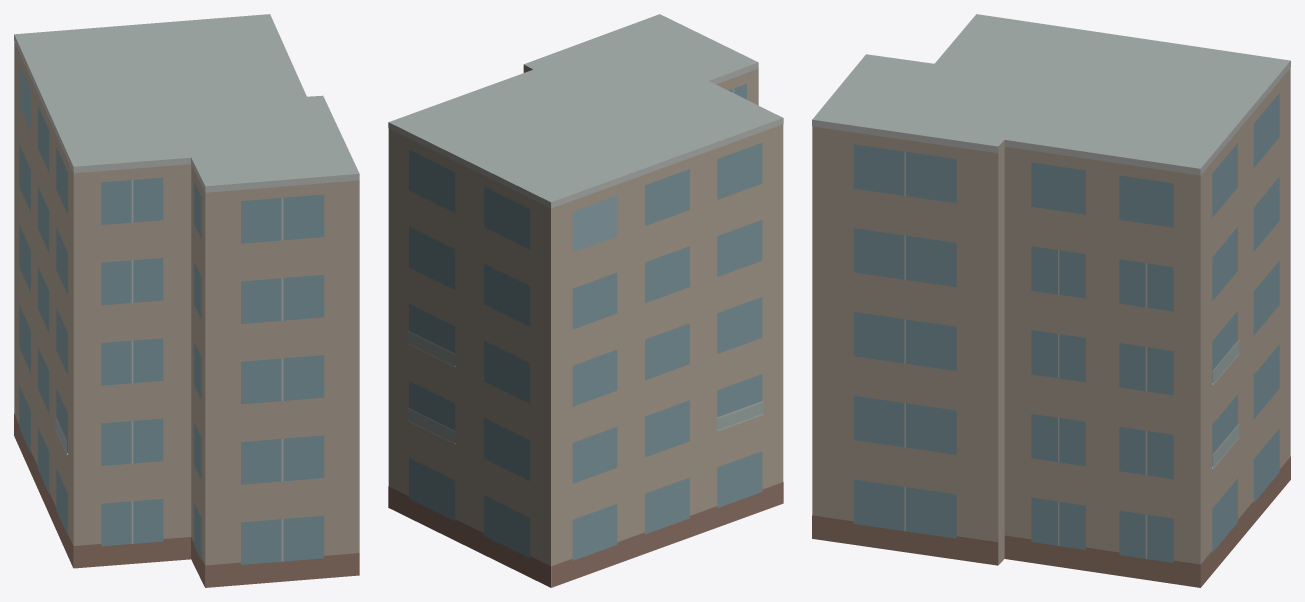
File: survey-upis-32882634.glb
3 views of the same model, side by side, from view 1: azimuth 30°, elevation 25°; view 2: azimuth 150°, elevation 25°; view 3: azimuth 270°, elevation 25° (orthographic). The views are drawn at different scales.
Visible parts, largest first — view 1: survey-upis-32882634.tmp; view 2: survey-upis-32882634.tmp; view 3: survey-upis-32882634.tmp.
Part boxes in pixels (left/top/right/bottom): survey-upis-32882634.tmp: left=14, top=14, right=359, bottom=587; survey-upis-32882634.tmp: left=388, top=14, right=783, bottom=587; survey-upis-32882634.tmp: left=812, top=14, right=1290, bottom=587.
Size of the model in its own units: 11.97 by 15.1 by 15.64.
